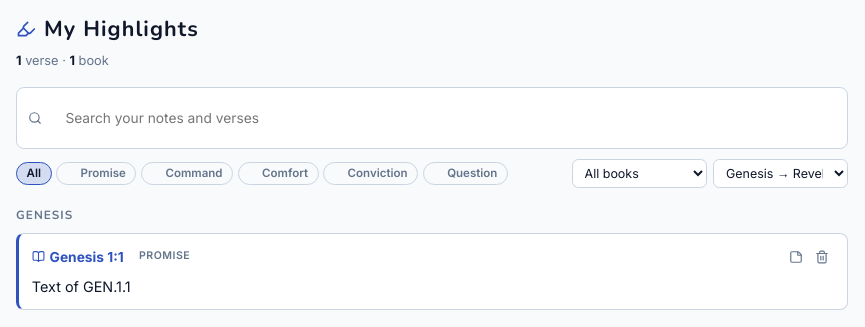
Test: Highlights page › says so when filters match nothing
Expected: the heading "Genesis" is shown, x1=16 y1=207 x2=73 y2=223
Step 1. Type "zzzz" into the search field named "search your highlights" → (443, 118), box x1=49 y1=95 x2=836 y2=141
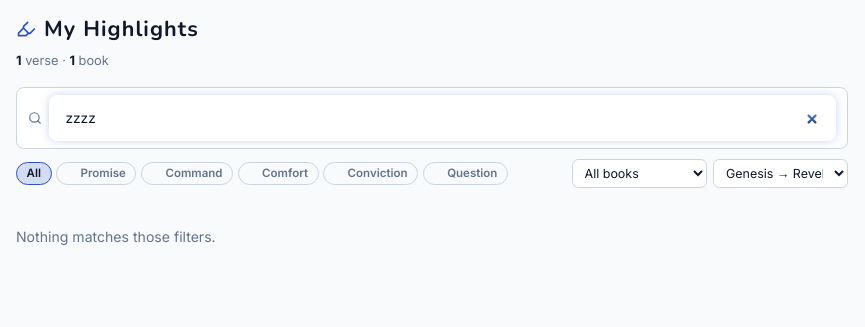
Expected: the text "Nothing matches those filters." is shown, x1=16 y1=228 x2=216 y2=245
